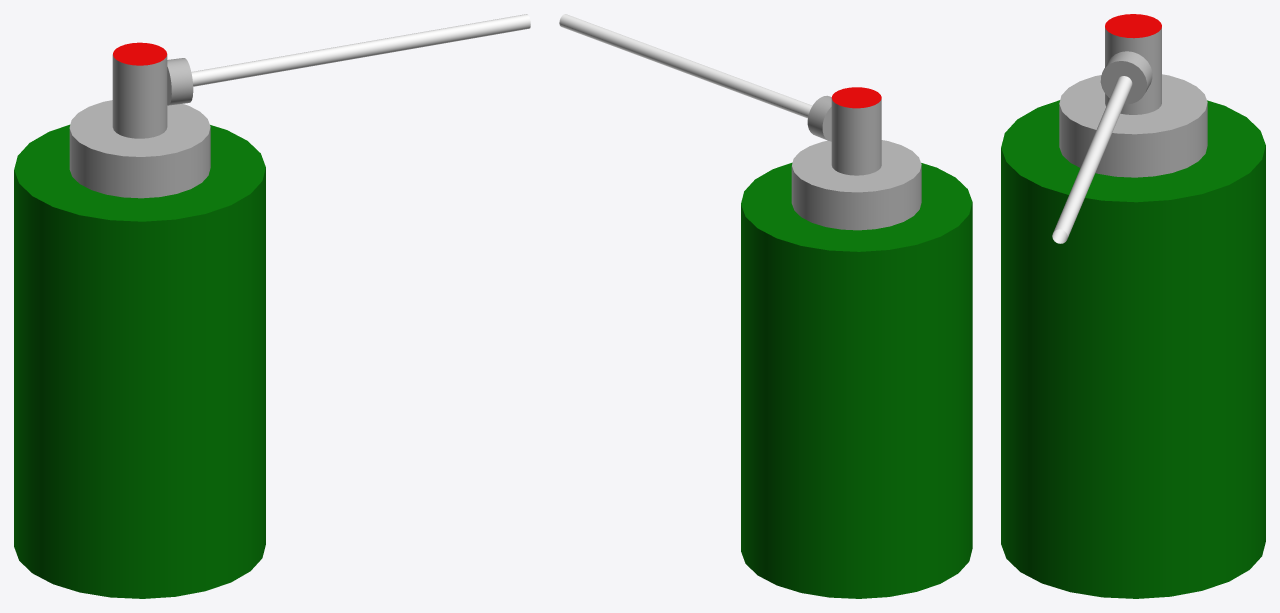
3 renders of one model, left to right at view 1: azimuth 30°, elevation 25°; view 2: azimuth 150°, elevation 25°; view 3: azimuth 270°, elevation 25°, orthographic. The views are drawn at different scales.
Visible parts, largest first — view 1: Group1, cap_009_1; view 2: Group1, cap_009_1; view 3: Group1, cap_009_1.
Boxes of the visible parts, bbox=[...] form: Group1: bbox=[14, 42, 265, 598]; cap_009_1: bbox=[191, 14, 530, 86]; Group1: bbox=[741, 87, 972, 598]; cap_009_1: bbox=[559, 14, 812, 118]; Group1: bbox=[1001, 14, 1265, 598]; cap_009_1: bbox=[1052, 76, 1132, 243].
Size of the model in its own units: 647 by 656 by 304.
